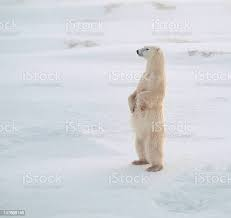PolarBear: (119, 35, 174, 179)
